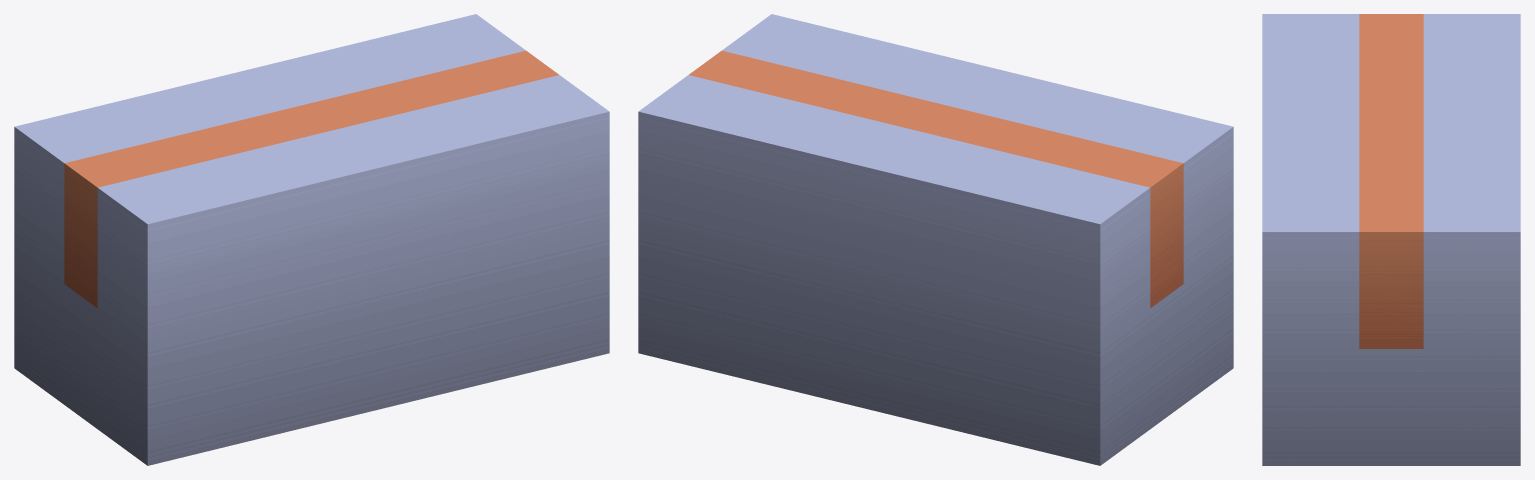
Rendered from box-long.glb.
3 renders of one model, left to right at view 1: azimuth 30°, elevation 25°; view 2: azimuth 150°, elevation 25°; view 3: azimuth 270°, elevation 25°, orthographic. The views are drawn at different scales.
Parts seen in each view (by area): view 1: box-long; view 2: box-long; view 3: box-long.
Part boxes in pixels (x1,y1,x2,y2): box-long: (14,14,609,465); box-long: (638,14,1233,465); box-long: (1262,14,1520,465).
Bounding box in the file's own units: 1 × 0.5 × 0.5.
Materials: 1 (1 with a texture image).
